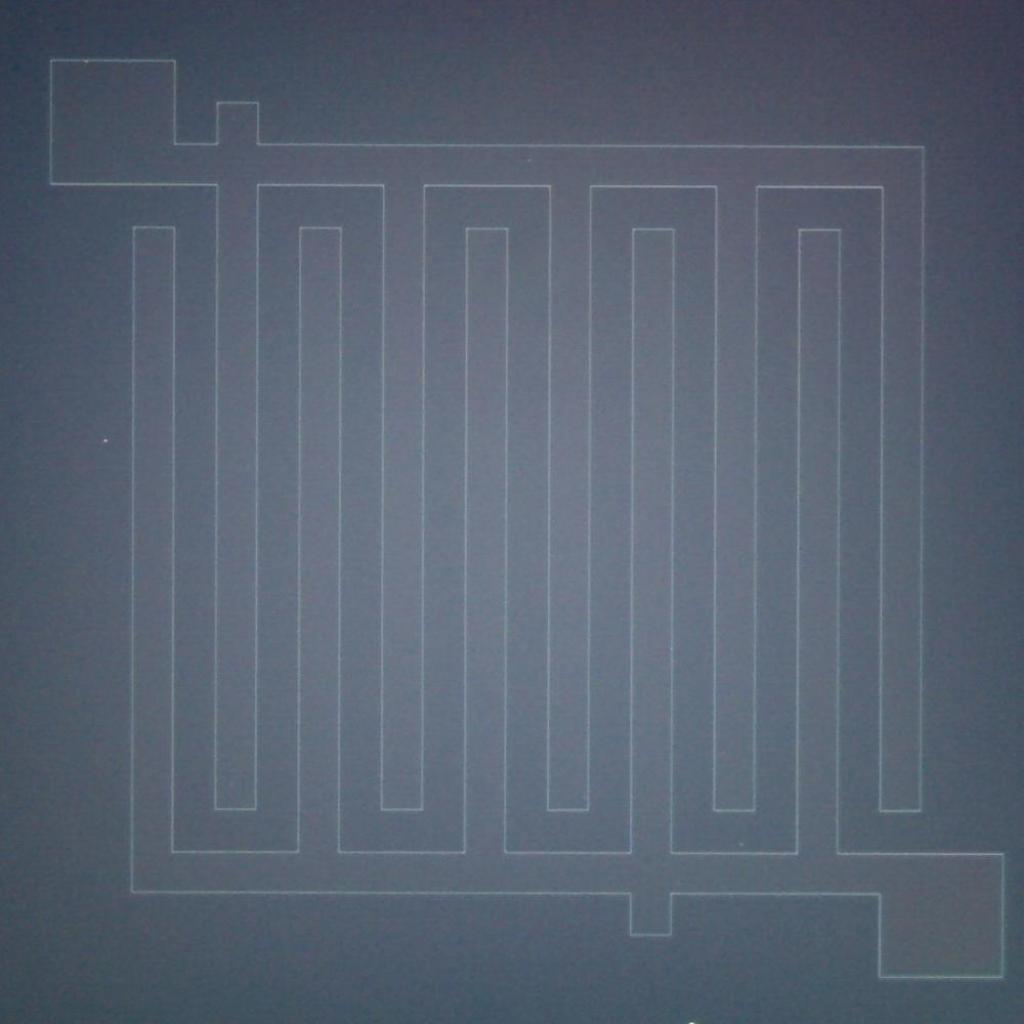dot: (104, 438, 108, 444)
